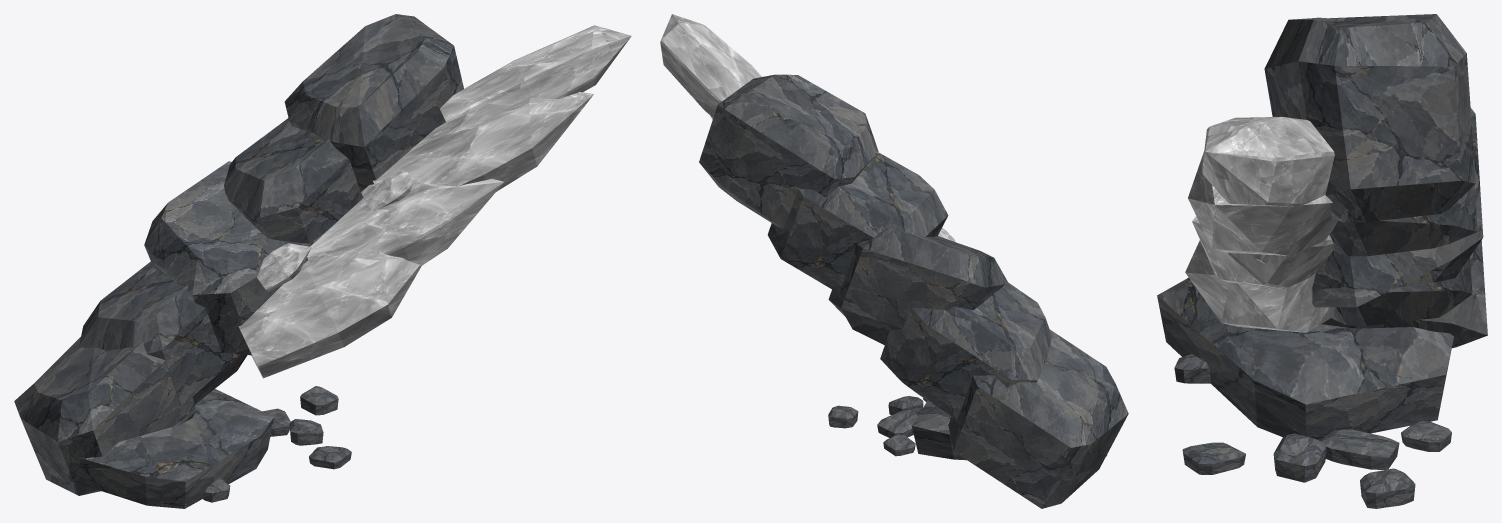
File: Ore_Y6.fbx
3 renders of one model, left to right at view 1: azimuth 30°, elevation 25°; view 2: azimuth 150°, elevation 25°; view 3: azimuth 270°, elevation 25°, orthographic. The views are drawn at different scales.
Visible parts, largest first — view 1: Ore_Y6_LOD0; view 2: Ore_Y6_LOD0; view 3: Ore_Y6_LOD0.
Boxes of the visible parts, <box> form: Ore_Y6_LOD0: <box>14,14,631,508</box>; Ore_Y6_LOD0: <box>660,14,1128,508</box>; Ore_Y6_LOD0: <box>1157,14,1487,508</box>.
Size of what is drawn, in the model's own units: 2.65 by 1.76 by 0.9292.
2 materials, 2 textured.
